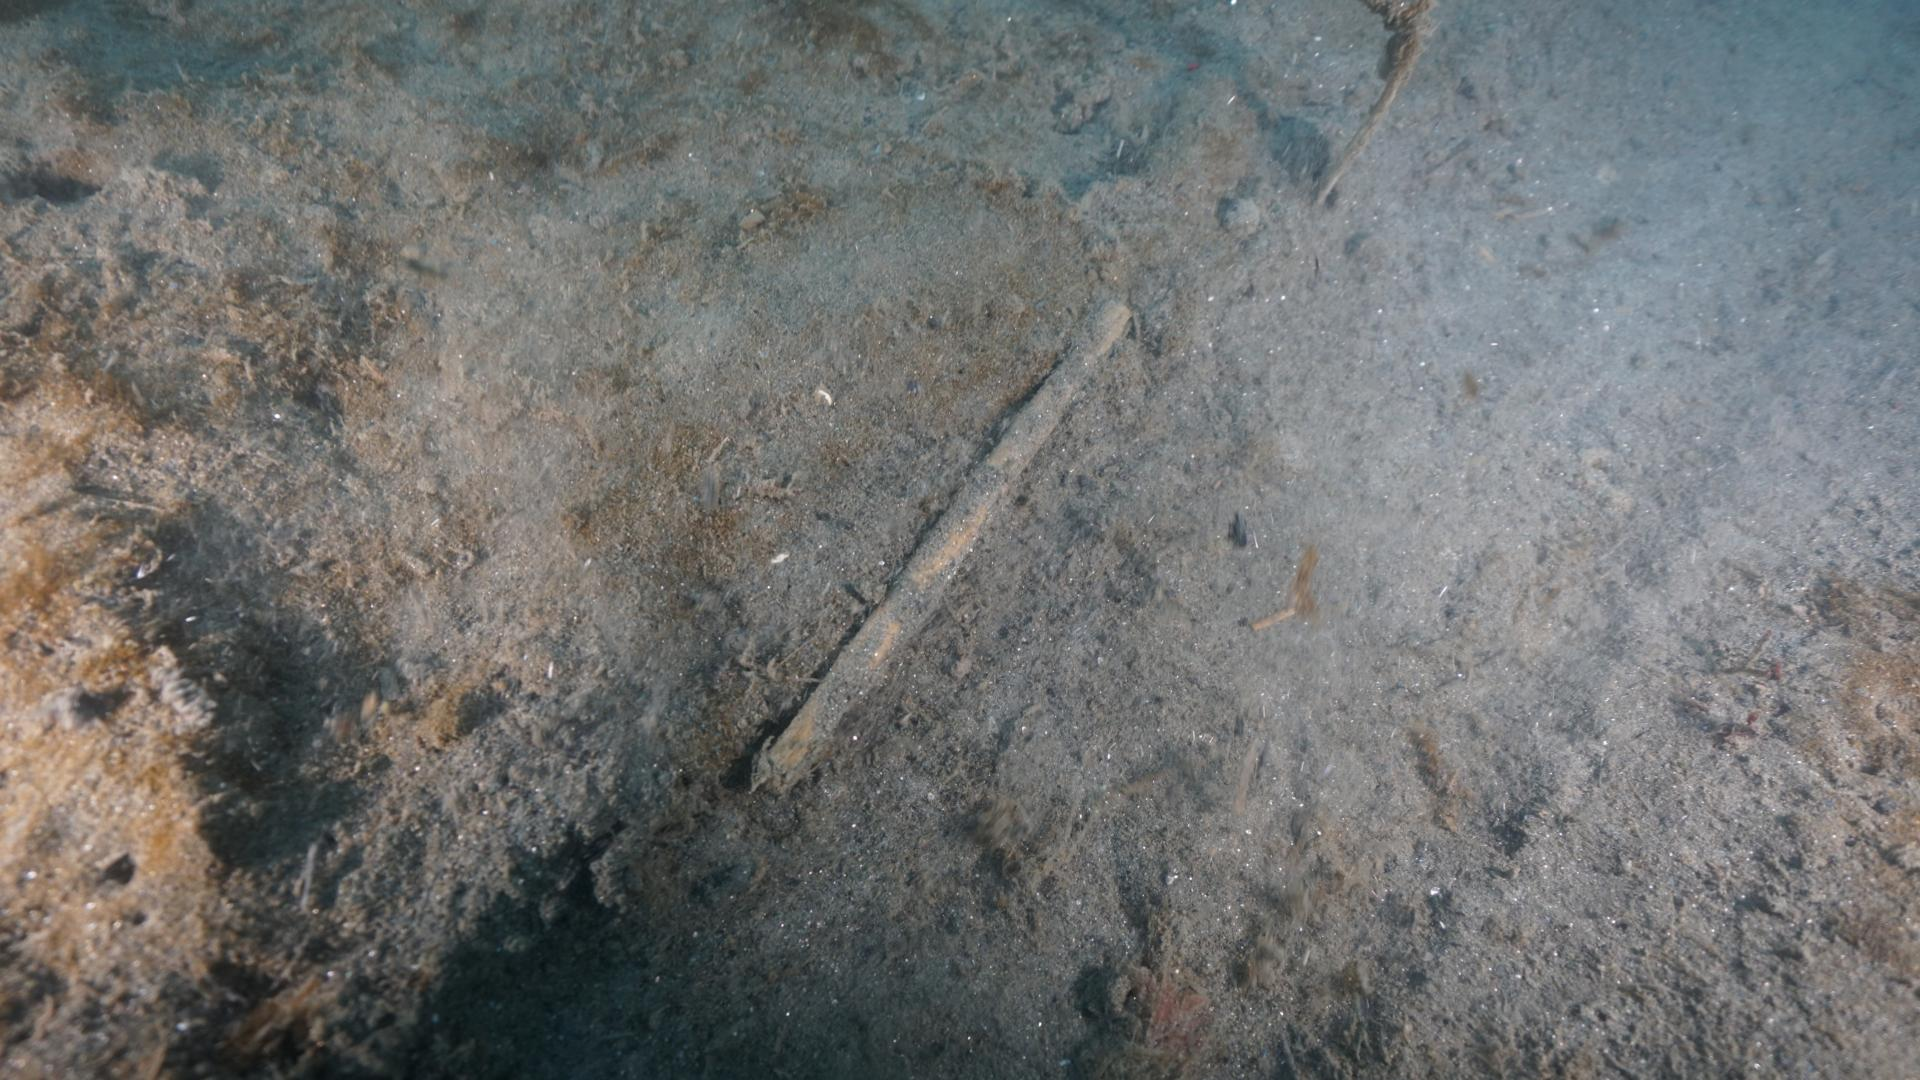wood: (752, 301, 1131, 787)
